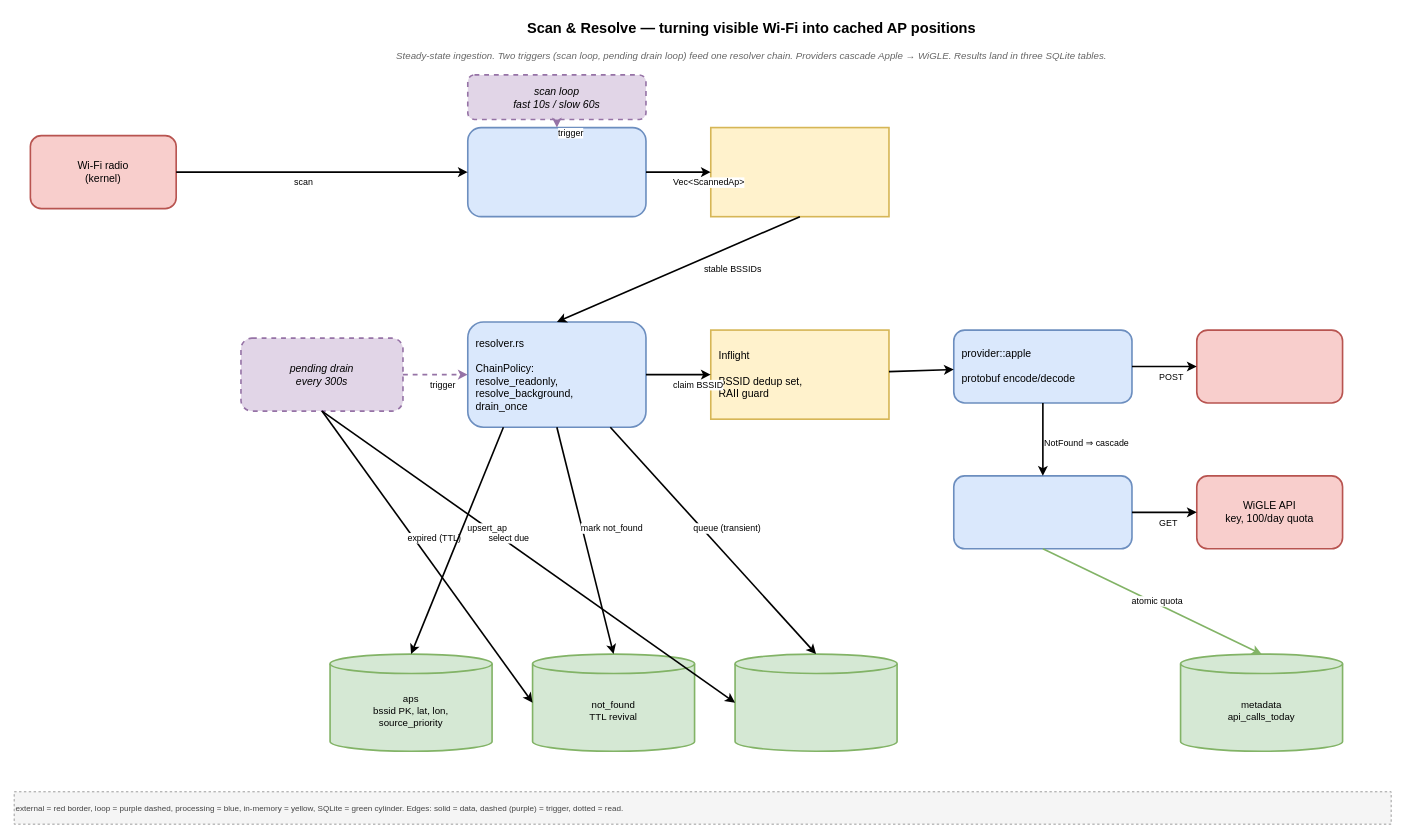
This 1405x838 diagram has some shape labels left out. Each missing label, with the centre of its shape:
"Apple WPS no auth, primary" goes at point 1269,366.
"Debouncer ring buffer per BSSID, ≥ M / N stable" goes at point 799,171.
"pending attempts, backoff" goes at point 815,702.
"provider::wigle atomic quota reserve" goes at point 1042,512.
"scanner.rs nmcli (iw fallback) parse → Vec<ScannedAp>" goes at point 556,171.
